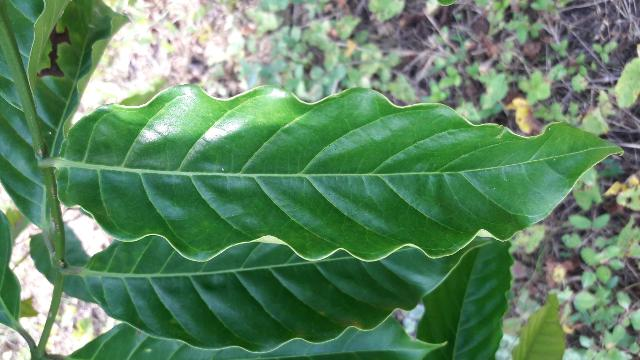healthy: (55, 82, 626, 262)
